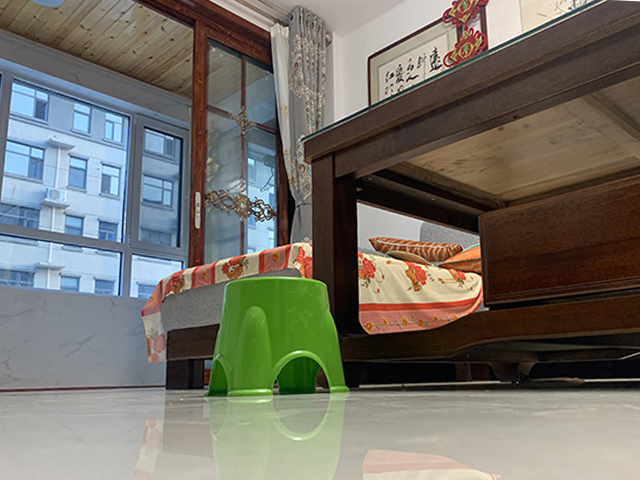curtain: (290, 3, 317, 243)
sofa: (140, 220, 485, 390)
stool: (204, 275, 350, 398)
table: (301, 1, 640, 387)
